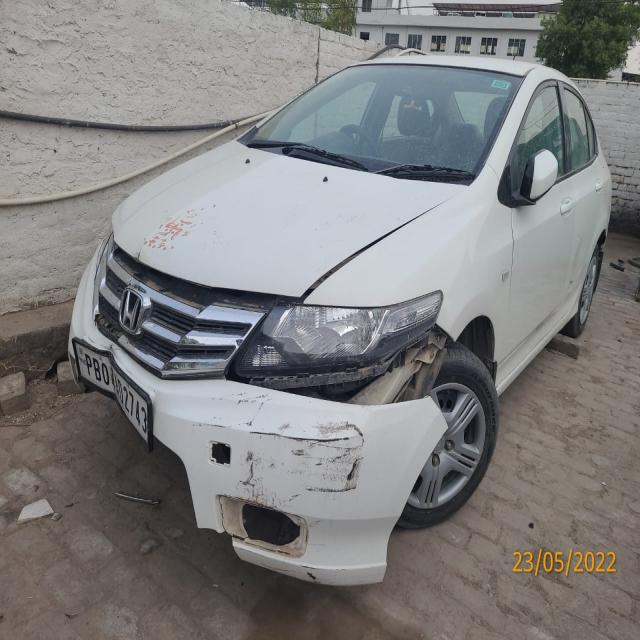damage: (220, 352, 441, 414), (230, 419, 395, 495), (211, 494, 314, 553), (180, 476, 229, 557), (202, 433, 238, 467), (99, 337, 125, 374), (128, 241, 143, 264)
